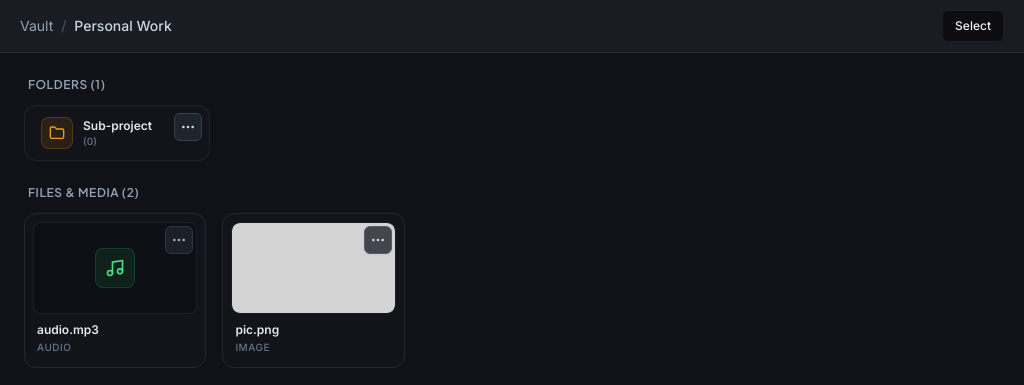
Test case: Bulk Selection UI in FolderContentsView › should render a Select toggle and enter selection mode with a Cancel toggle
The image size is (1024, 385).
Step 1. Click the button "Select" → (973, 26), box x1=942 y1=10 x2=1004 y2=42
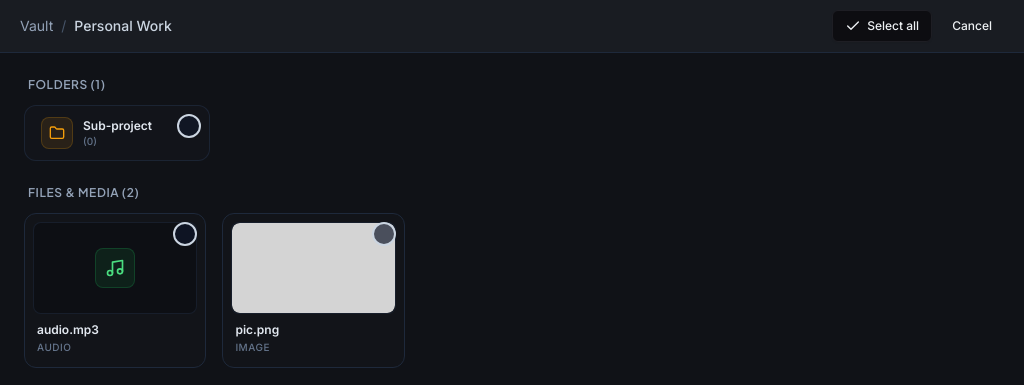
Result: the button "Cancel" is shown at x1=940 y1=10 x2=1004 y2=42
